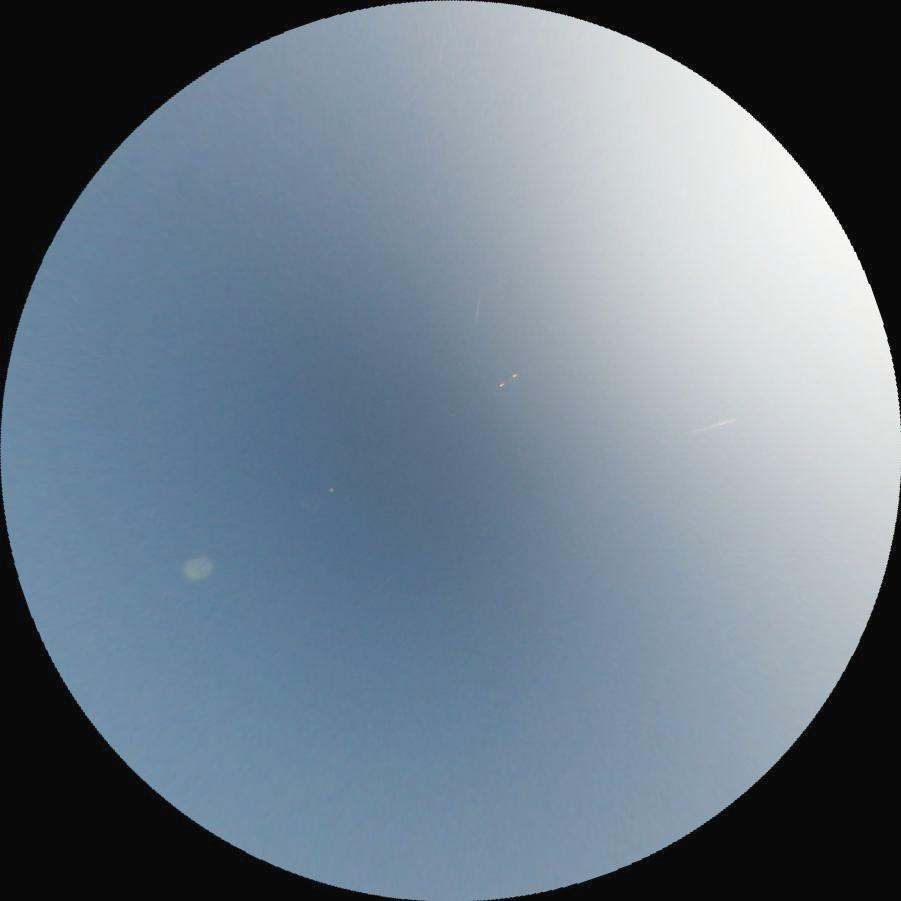contrail young: (686, 416, 739, 436), (438, 33, 447, 62), (474, 289, 482, 320)
